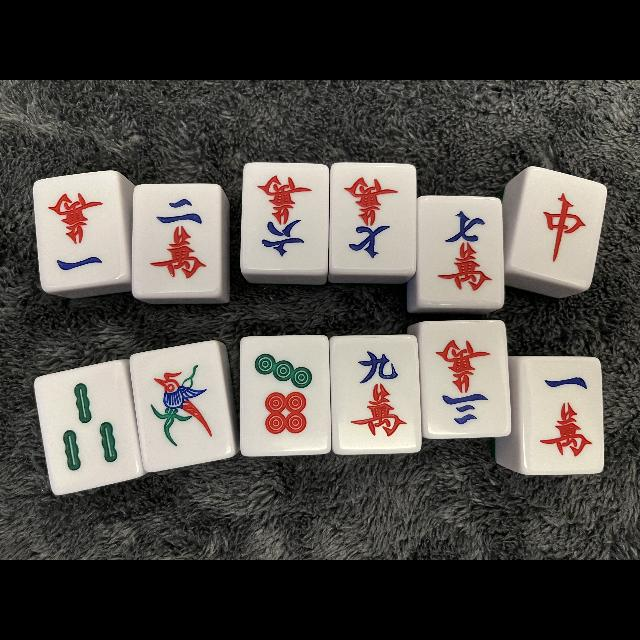b1: (138, 347, 226, 465)
b3: (42, 368, 132, 486)
c1: (522, 358, 604, 472), (38, 175, 122, 285)
c2: (134, 184, 218, 294)
c3: (423, 322, 505, 438)
c6: (243, 164, 325, 270)
c7: (420, 197, 502, 306), (332, 164, 414, 270)
c9: (332, 336, 418, 452)
d7: (242, 338, 328, 452)
dr: (519, 174, 601, 274)
